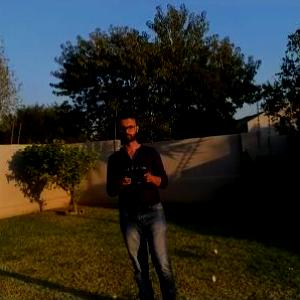follow: (103, 105, 180, 299)
